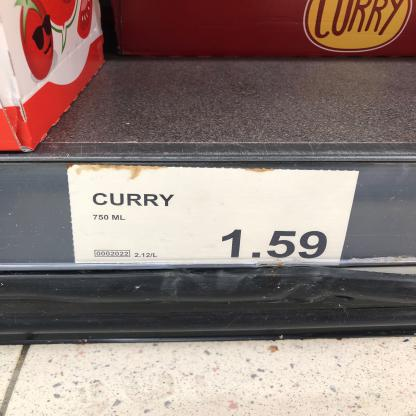prtg: (68, 166, 360, 266)
